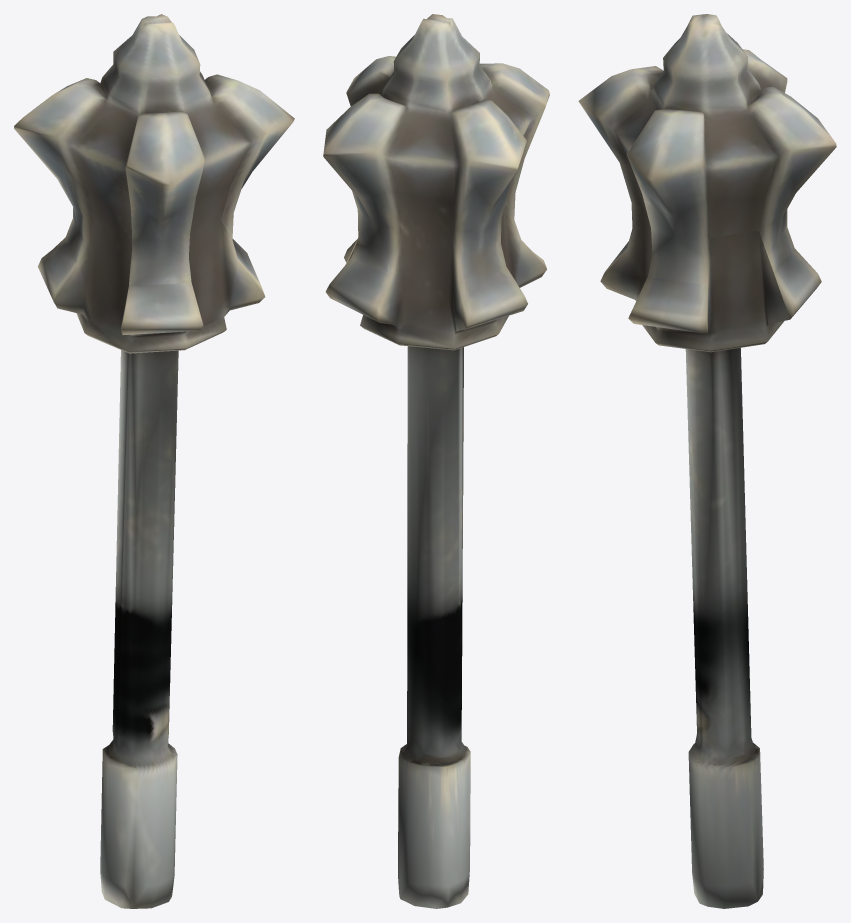
The model's file is Mace_1.glb.
The picture shows the model from 3 angles, left to right: view 1: azimuth 30°, elevation 25°; view 2: azimuth 150°, elevation 25°; view 3: azimuth 270°, elevation 25°; orthographic projection.
Visible parts, largest first — view 1: mace_low.001; view 2: mace_low.001; view 3: mace_low.001.
Part boxes in pixels (left/top/right/bottom): mace_low.001: left=14, top=14, right=294, bottom=908; mace_low.001: left=323, top=14, right=549, bottom=908; mace_low.001: left=578, top=14, right=836, bottom=908.
Bounding box in the file's own units: 0.3648 × 1.37 × 0.3654.
1 material, 1 textured.
